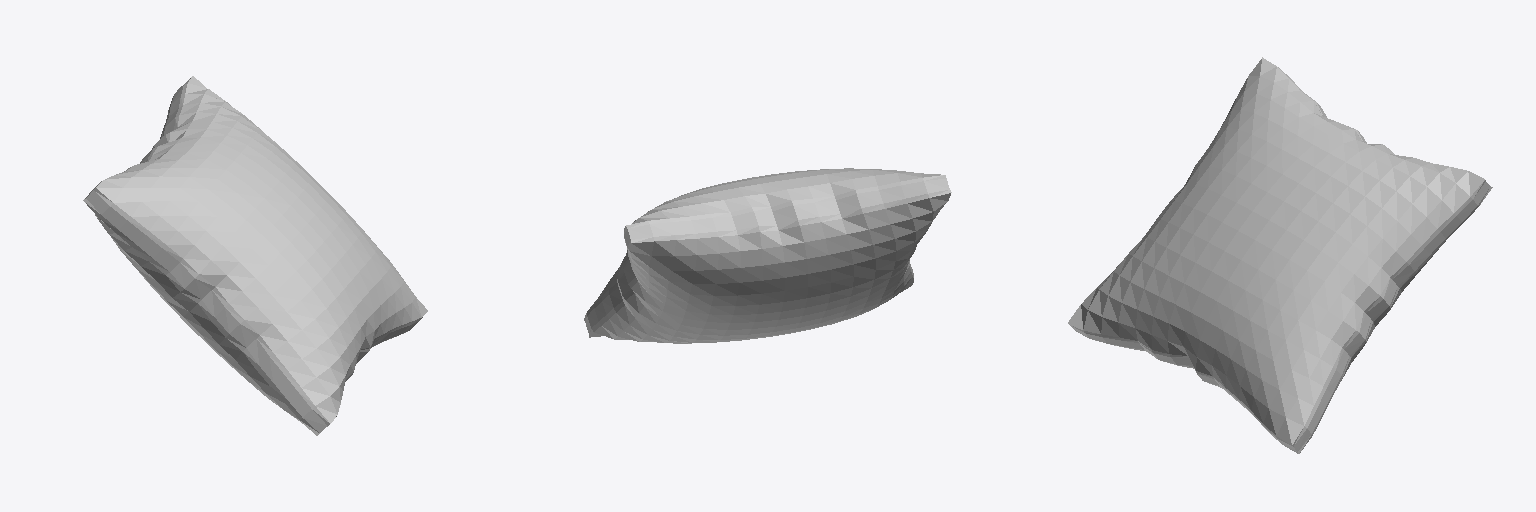
Rendered from PillowD.obj.
3 views of the same model, side by side, from view 1: azimuth 30°, elevation 25°; view 2: azimuth 150°, elevation 25°; view 3: azimuth 270°, elevation 25° (orthographic).
Parts seen in each view (by area): view 1: square_pillow1 bed_pillows bed_stuff bed witch_tower; view 2: square_pillow1 bed_pillows bed_stuff bed witch_tower; view 3: square_pillow1 bed_pillows bed_stuff bed witch_tower.
Part boxes in pixels (left/top/right/bottom): square_pillow1 bed_pillows bed_stuff bed witch_tower: left=83, top=76, right=427, bottom=435; square_pillow1 bed_pillows bed_stuff bed witch_tower: left=584, top=168, right=951, bottom=343; square_pillow1 bed_pillows bed_stuff bed witch_tower: left=1068, top=57, right=1492, bottom=453.
Bounding box in the file's own units: 2.08 × 1.29 × 2.14.